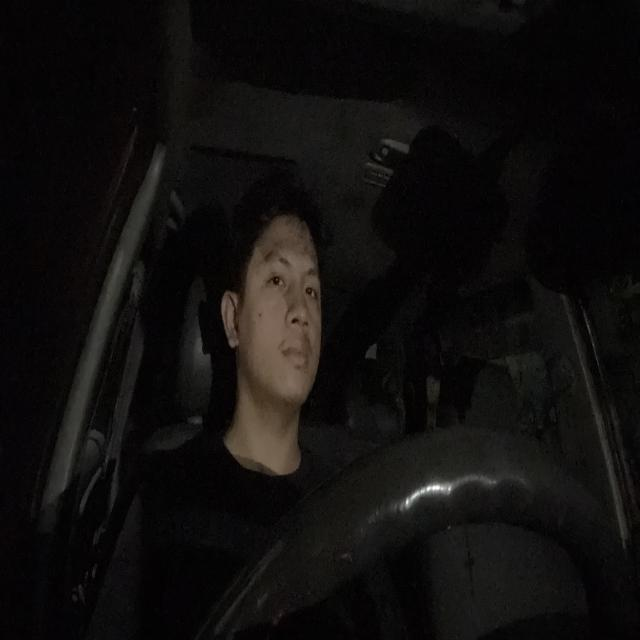open: (262, 252, 292, 300), (302, 264, 321, 306)
